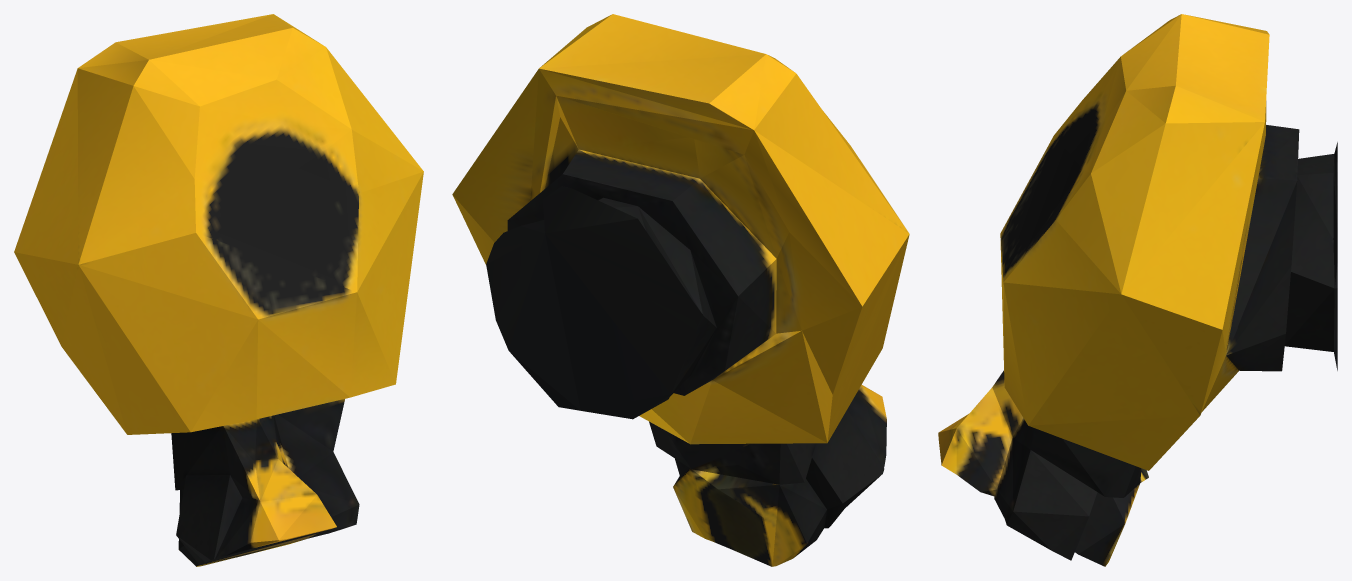
File: SM_ChaserV2Debris_UpperArm_R.fbx
The picture shows the model from 3 angles, left to right: view 1: azimuth 30°, elevation 25°; view 2: azimuth 150°, elevation 25°; view 3: azimuth 270°, elevation 25°; orthographic projection. The views are drawn at different scales.
Visible parts, largest first — view 1: SM_ChaserV2Debris_UpperArm_R; view 2: SM_ChaserV2Debris_UpperArm_R; view 3: SM_ChaserV2Debris_UpperArm_R.
Part boxes in pixels (x1,y1,x2,y2): SM_ChaserV2Debris_UpperArm_R: (14,14,423,566); SM_ChaserV2Debris_UpperArm_R: (452,14,909,566); SM_ChaserV2Debris_UpperArm_R: (938,14,1337,566).
Size of the model in its own units: 22.34 by 27.97 by 19.91.
Materials: 1 (1 with a texture image).
